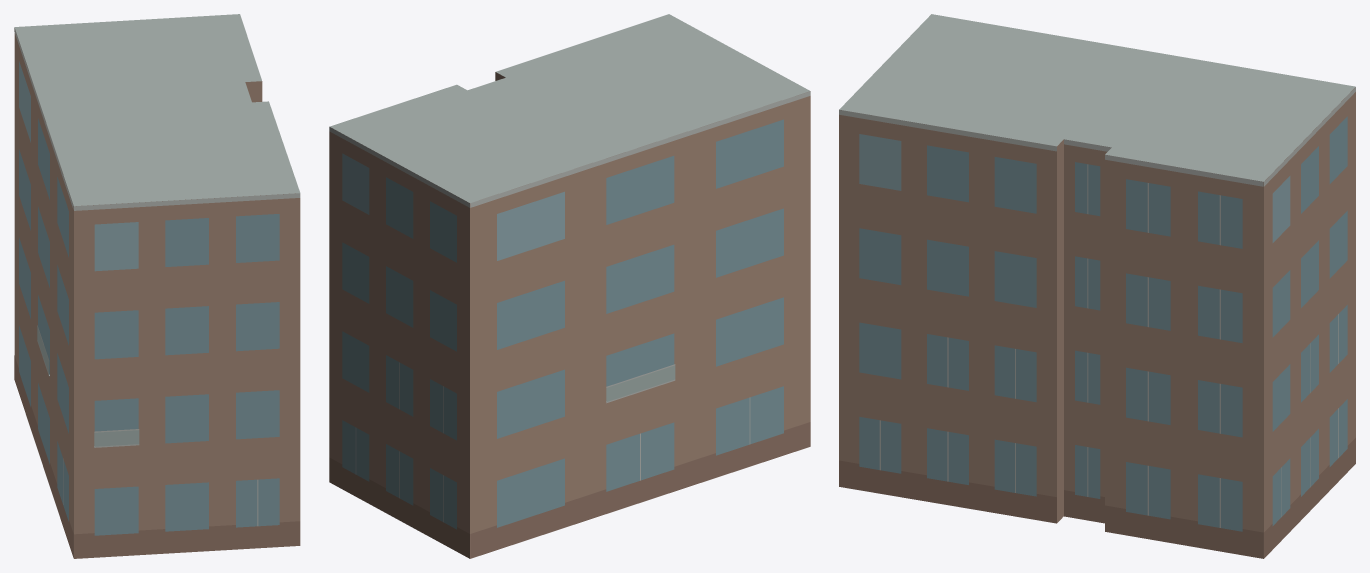
File: survey-upis-33000332.glb
3 views of the same model, side by side, from view 1: azimuth 30°, elevation 25°; view 2: azimuth 150°, elevation 25°; view 3: azimuth 270°, elevation 25° (orthographic). The views are drawn at different scales.
Visible parts, largest first — view 1: survey-upis-33000332.tmp; view 2: survey-upis-33000332.tmp; view 3: survey-upis-33000332.tmp.
Part boxes in pixels (x1,y1,x2,y2): survey-upis-33000332.tmp: (14, 14, 300, 558); survey-upis-33000332.tmp: (329, 14, 810, 558); survey-upis-33000332.tmp: (839, 14, 1355, 558).
Size of the model in its own units: 17.38 by 18.2 by 22.61.
